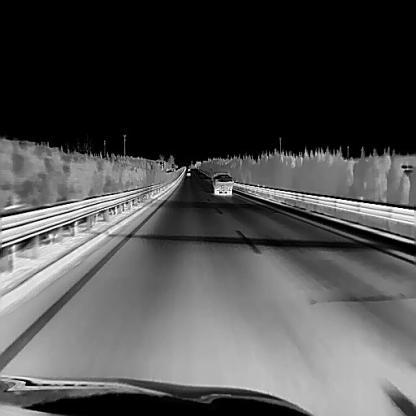car: (210, 171, 233, 194), (186, 168, 190, 176)
